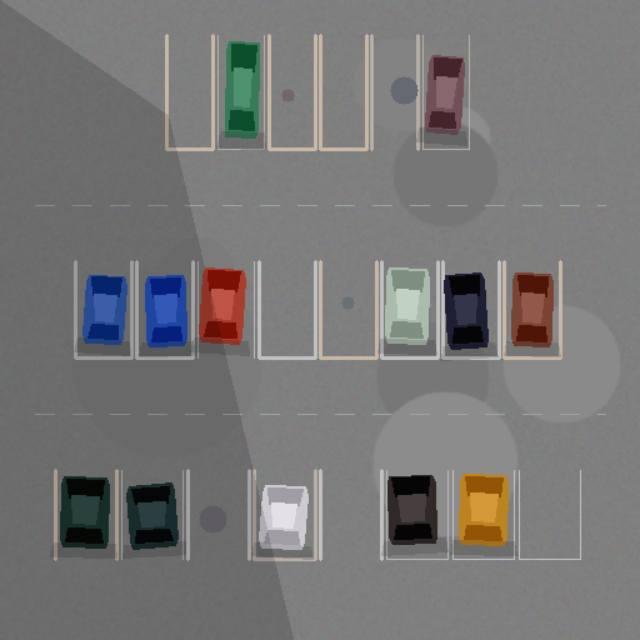space-empty: (187, 470, 249, 559), (320, 470, 381, 559), (519, 470, 580, 559), (259, 261, 315, 357), (320, 261, 376, 357), (371, 35, 418, 149), (166, 35, 212, 149), (269, 35, 315, 149), (320, 35, 366, 149)
space-occupied: (121, 470, 183, 559), (136, 261, 193, 357), (197, 261, 254, 357), (55, 470, 116, 559), (254, 470, 315, 559), (386, 470, 447, 559), (453, 470, 514, 559), (75, 261, 131, 357), (381, 261, 437, 357), (443, 261, 499, 357), (504, 261, 560, 357), (422, 35, 469, 149), (218, 35, 264, 149)
